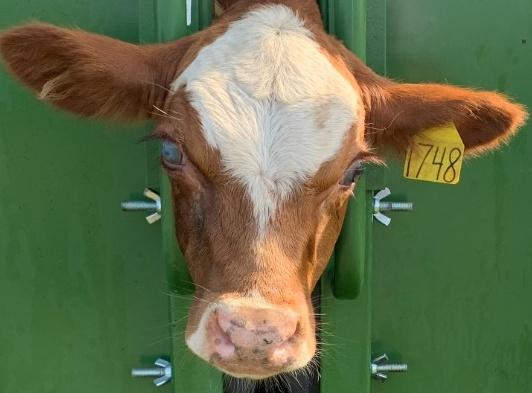muzzles: (183, 292, 322, 380)
